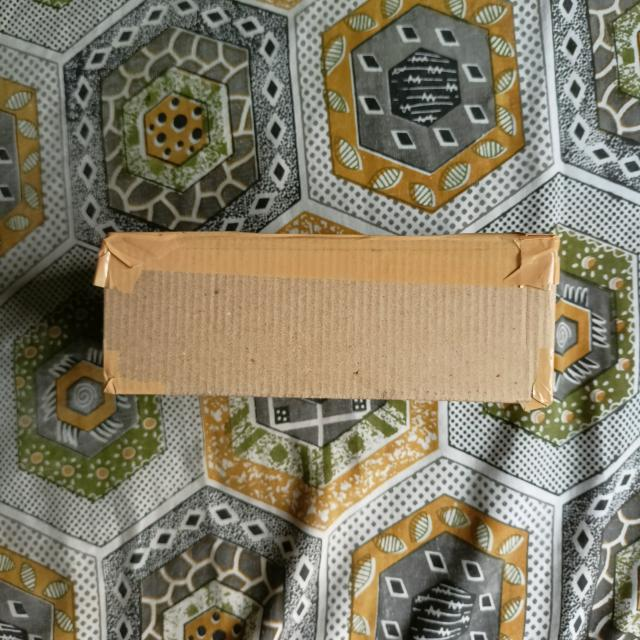box: (95, 229, 564, 411)
